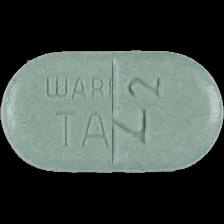49349-718: (0, 0, 224, 224)
